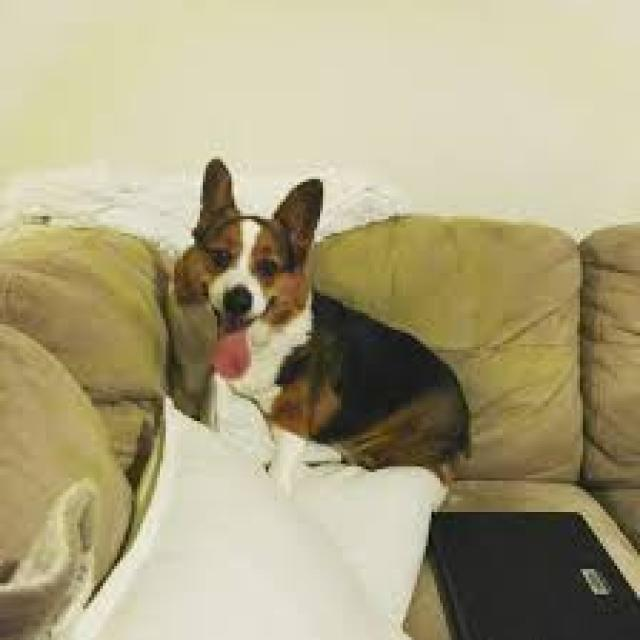CORGI: (180, 150, 487, 494)
